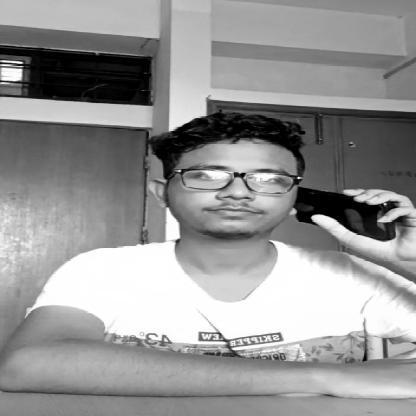Normal: (176, 147, 296, 234)
